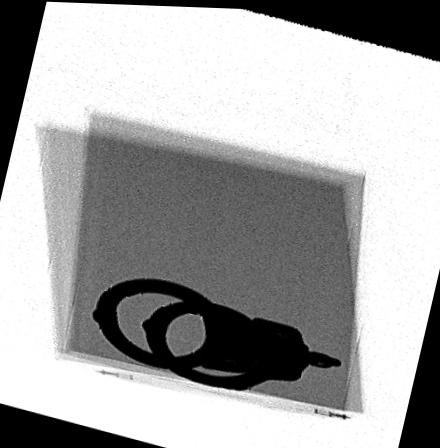HandCuffs: (90, 275, 341, 390)
